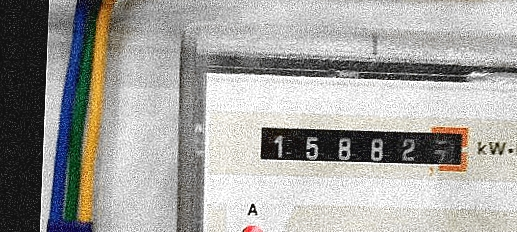1: (272, 130, 286, 159)
2: (399, 136, 417, 162)
5: (303, 133, 321, 164)
7: (432, 146, 446, 164)
8: (335, 134, 352, 163), (368, 135, 385, 163)
screen: (248, 110, 476, 180)
